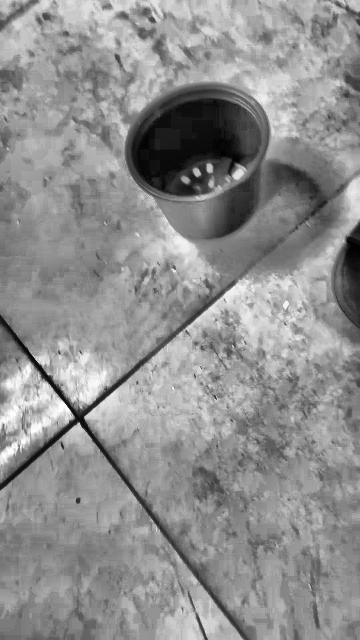pot: (126, 83, 271, 240)
